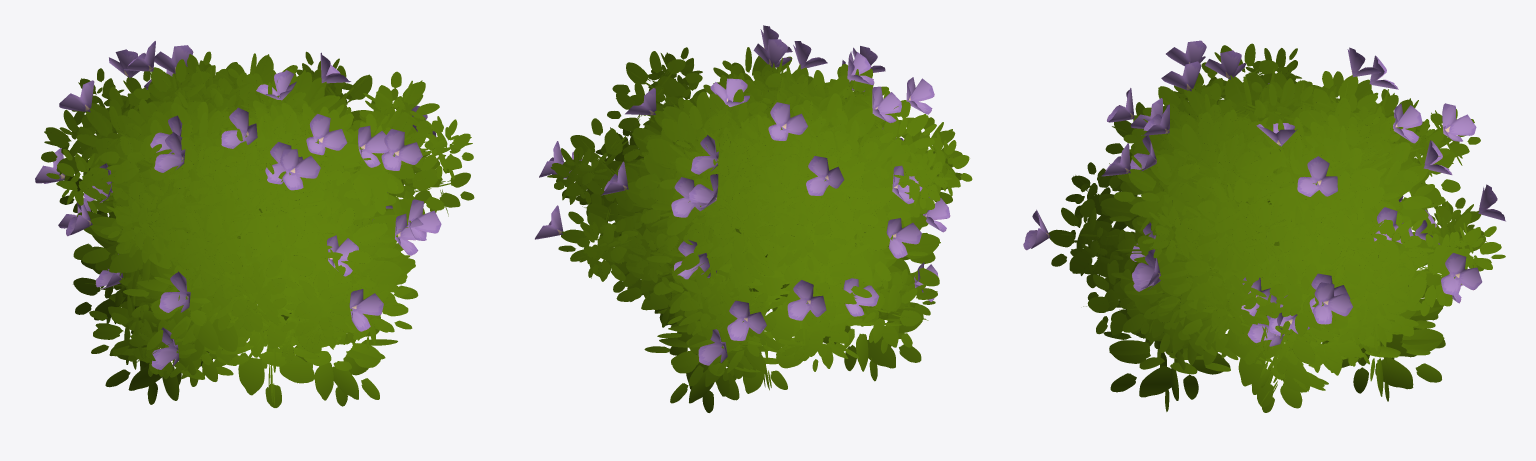
File: bush_flowering.glb
The picture shows the model from 3 angles, left to right: view 1: azimuth 30°, elevation 25°; view 2: azimuth 150°, elevation 25°; view 3: azimuth 270°, elevation 25°; orthographic projection. The views are drawn at different scales.
Visible parts, largest first — view 1: Bush_Common_Flowers; view 2: Bush_Common_Flowers; view 3: Bush_Common_Flowers.
Part boxes in pixels (left/top/right/bottom): Bush_Common_Flowers: left=35, top=41, right=474, bottom=407; Bush_Common_Flowers: left=535, top=25, right=972, bottom=412; Bush_Common_Flowers: left=1023, top=40, right=1505, bottom=412.
Size of the model in its own units: 1.91 by 1.58 by 1.97.
2 materials, 2 textured.
